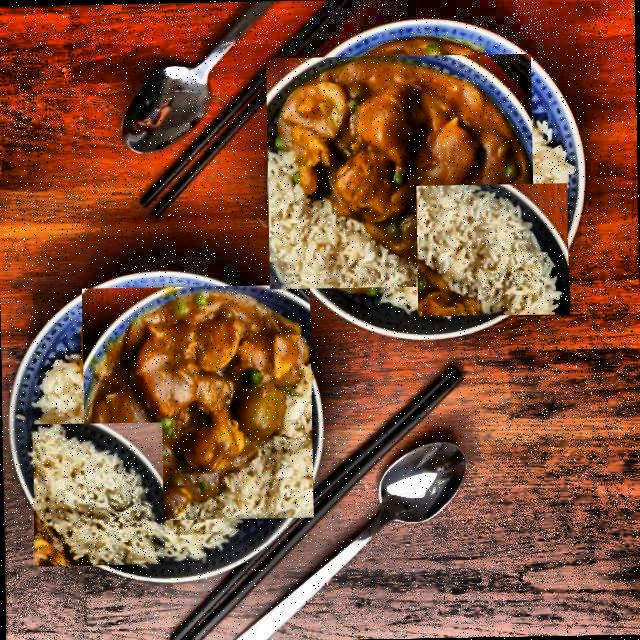Food: (274, 44, 526, 297), (80, 285, 315, 520), (420, 178, 564, 322), (31, 422, 166, 568)
